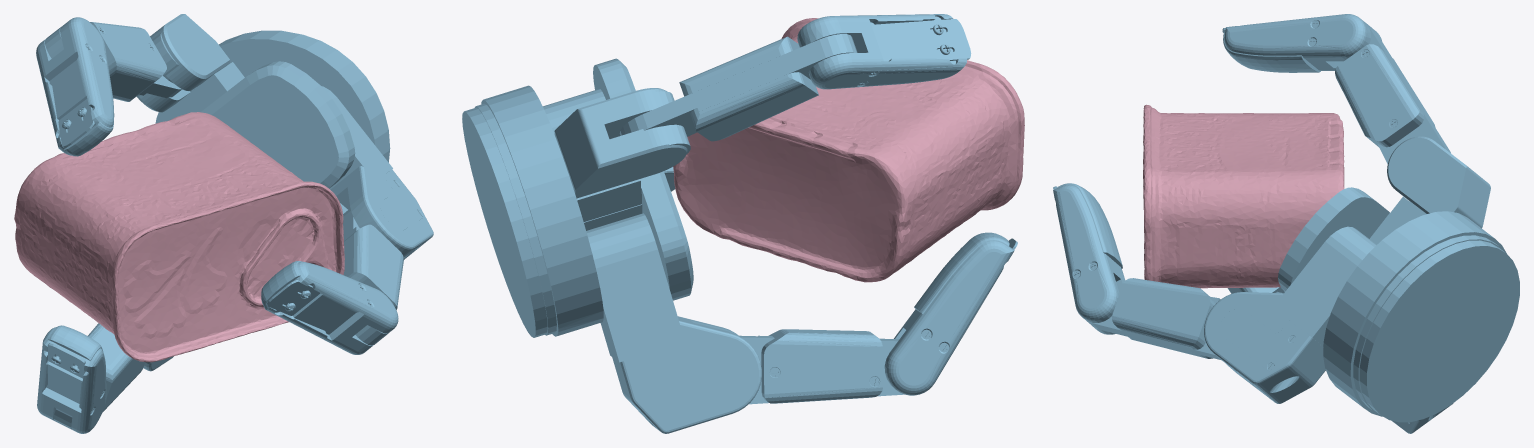
3 views of the same model, side by side, from view 1: azimuth 30°, elevation 25°; view 2: azimuth 150°, elevation 25°; view 3: azimuth 270°, elevation 25° (orthographic). The views are drawn at different scales.
Visible parts, largest first — view 1: world, potted_meat_can.stl; view 2: world, potted_meat_can.stl; view 3: world, potted_meat_can.stl.
Part boxes in pixels (bbox=[...]): world: bbox=[36, 14, 433, 433]; potted_meat_can.stl: bbox=[14, 112, 344, 362]; world: bbox=[462, 14, 1017, 433]; potted_meat_can.stl: bbox=[673, 18, 1024, 282]; world: bbox=[1053, 14, 1519, 433]; potted_meat_can.stl: bbox=[1143, 104, 1344, 288].
Size of the model in its own units: 0.1887 by 0.1652 by 0.1936.
